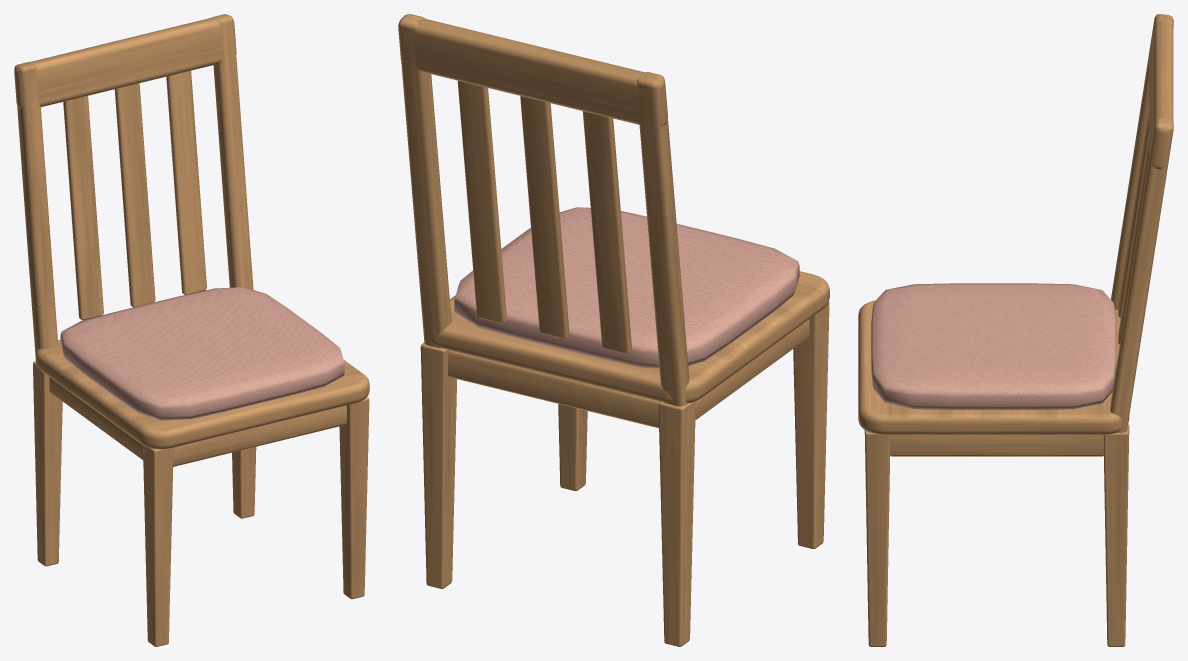
The model's file is prop_chair.glb.
The picture shows the model from 3 angles, left to right: view 1: azimuth 30°, elevation 25°; view 2: azimuth 150°, elevation 25°; view 3: azimuth 270°, elevation 25°; orthographic projection. The views are drawn at different scales.
Visible parts, largest first — view 1: prop_chair; view 2: prop_chair; view 3: prop_chair.
Part boxes in pixels (x1=…): prop_chair: x1=14, y1=14, x2=369, y2=646; prop_chair: x1=398, y1=14, x2=829, y2=646; prop_chair: x1=858, y1=14, x2=1173, y2=646.
Bounding box in the file's own units: 0.55 × 1.12 × 0.6111.
2 materials, 2 textured.
